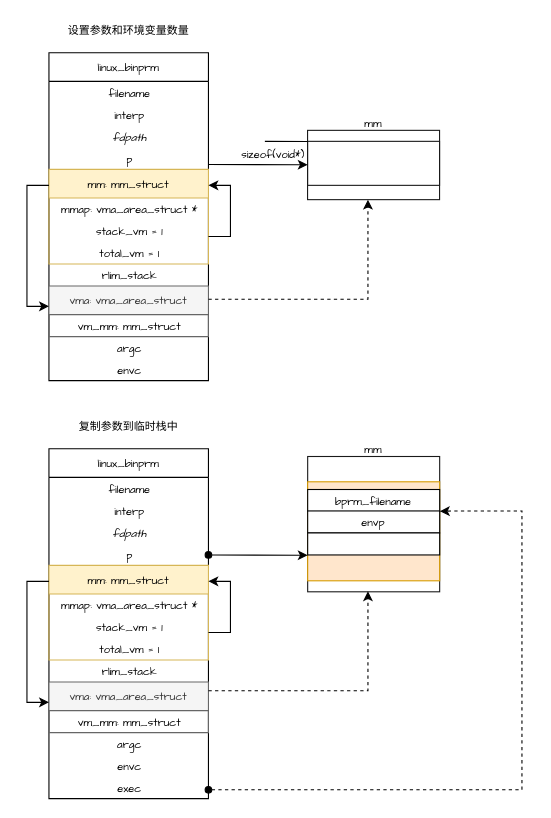
The diagram is 551 pixels wide and 818 high, and some of its shapes have lost their labels. The shapes that lost their labels are listed below. From the top down, each one's centre as x and y in pixels, then its label:
At (373,162): "vma".
At (373,543): "argv".
